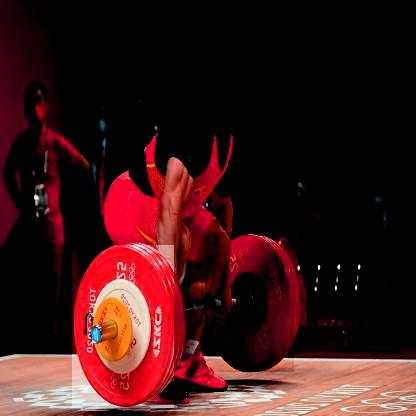barbell: (70, 245, 172, 408), (204, 234, 293, 373)
